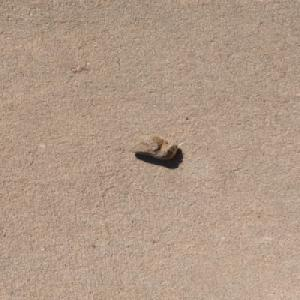Rock: (127, 135, 178, 160)
